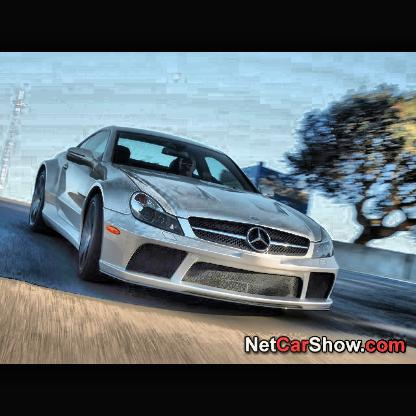Mercedes-Benz SL-Class Coupe 2009: (28, 126, 339, 319)
